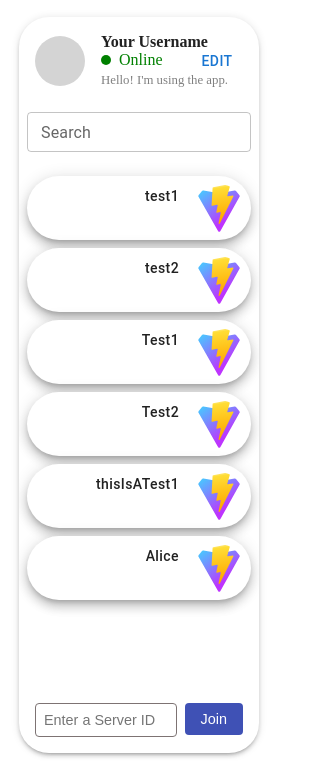
ServerList Component › filters servers based on search input
# Use a more general selector for the search input
Type "test1" into the search field labelled "Search".
click(139, 132); type("test1")  # box [27,112,251,152]
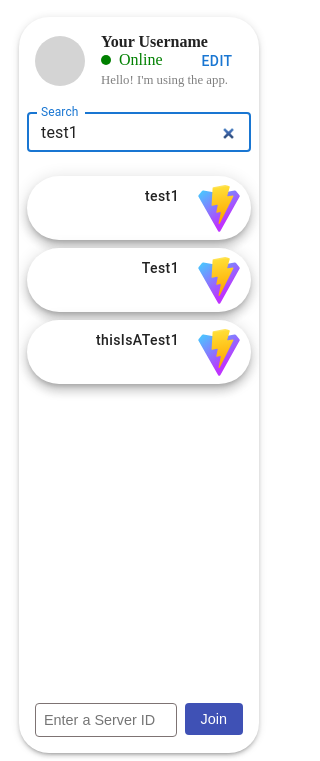
expect the button "test1" is shown: met, box [27,176,251,240]
expect the button "test2" is gone: met
expect the button "Alice" is gone: met
# Clear search and verify all servers are visible again
Clear the search field labelled "Search" at (139, 132), box [27,112,251,152]
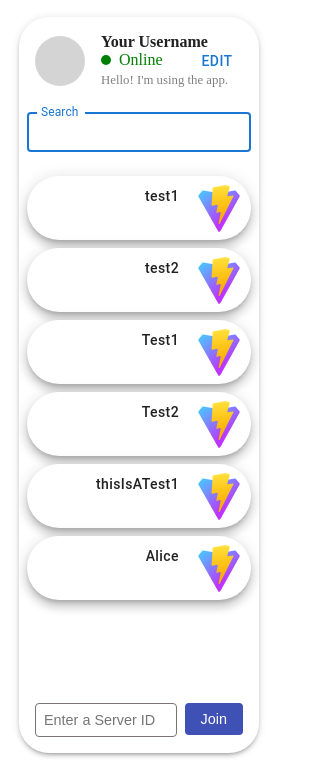
expect the button "test2" is shown: met, box [27,248,251,312]
expect the button "Test2" is shown: met, box [27,392,251,456]
expect the button "Alice" is shown: met, box [27,536,251,600]
